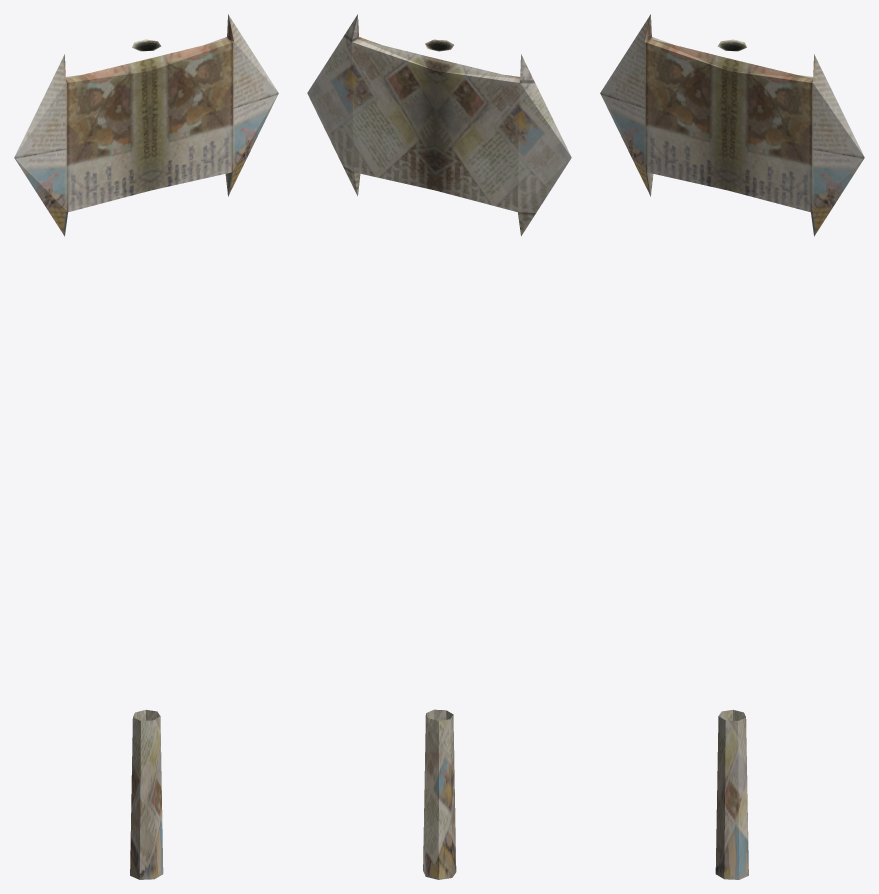
Rendered from Bison_paperAxe.obj.
The picture shows the model from 3 angles, left to right: view 1: azimuth 30°, elevation 25°; view 2: azimuth 150°, elevation 25°; view 3: azimuth 330°, elevation 25°; orthographic projection.
Visible parts, largest first — view 1: Bison_paperAxe_tri; view 2: Bison_paperAxe_tri; view 3: Bison_paperAxe_tri.
Part boxes in pixels (x1,y1,x2,y2): Bison_paperAxe_tri: (14,14,278,879); Bison_paperAxe_tri: (307,14,571,879); Bison_paperAxe_tri: (600,14,864,879).
Size of the model in its own units: 1.23 by 3.72 by 0.1231.
1 material, 1 textured.
